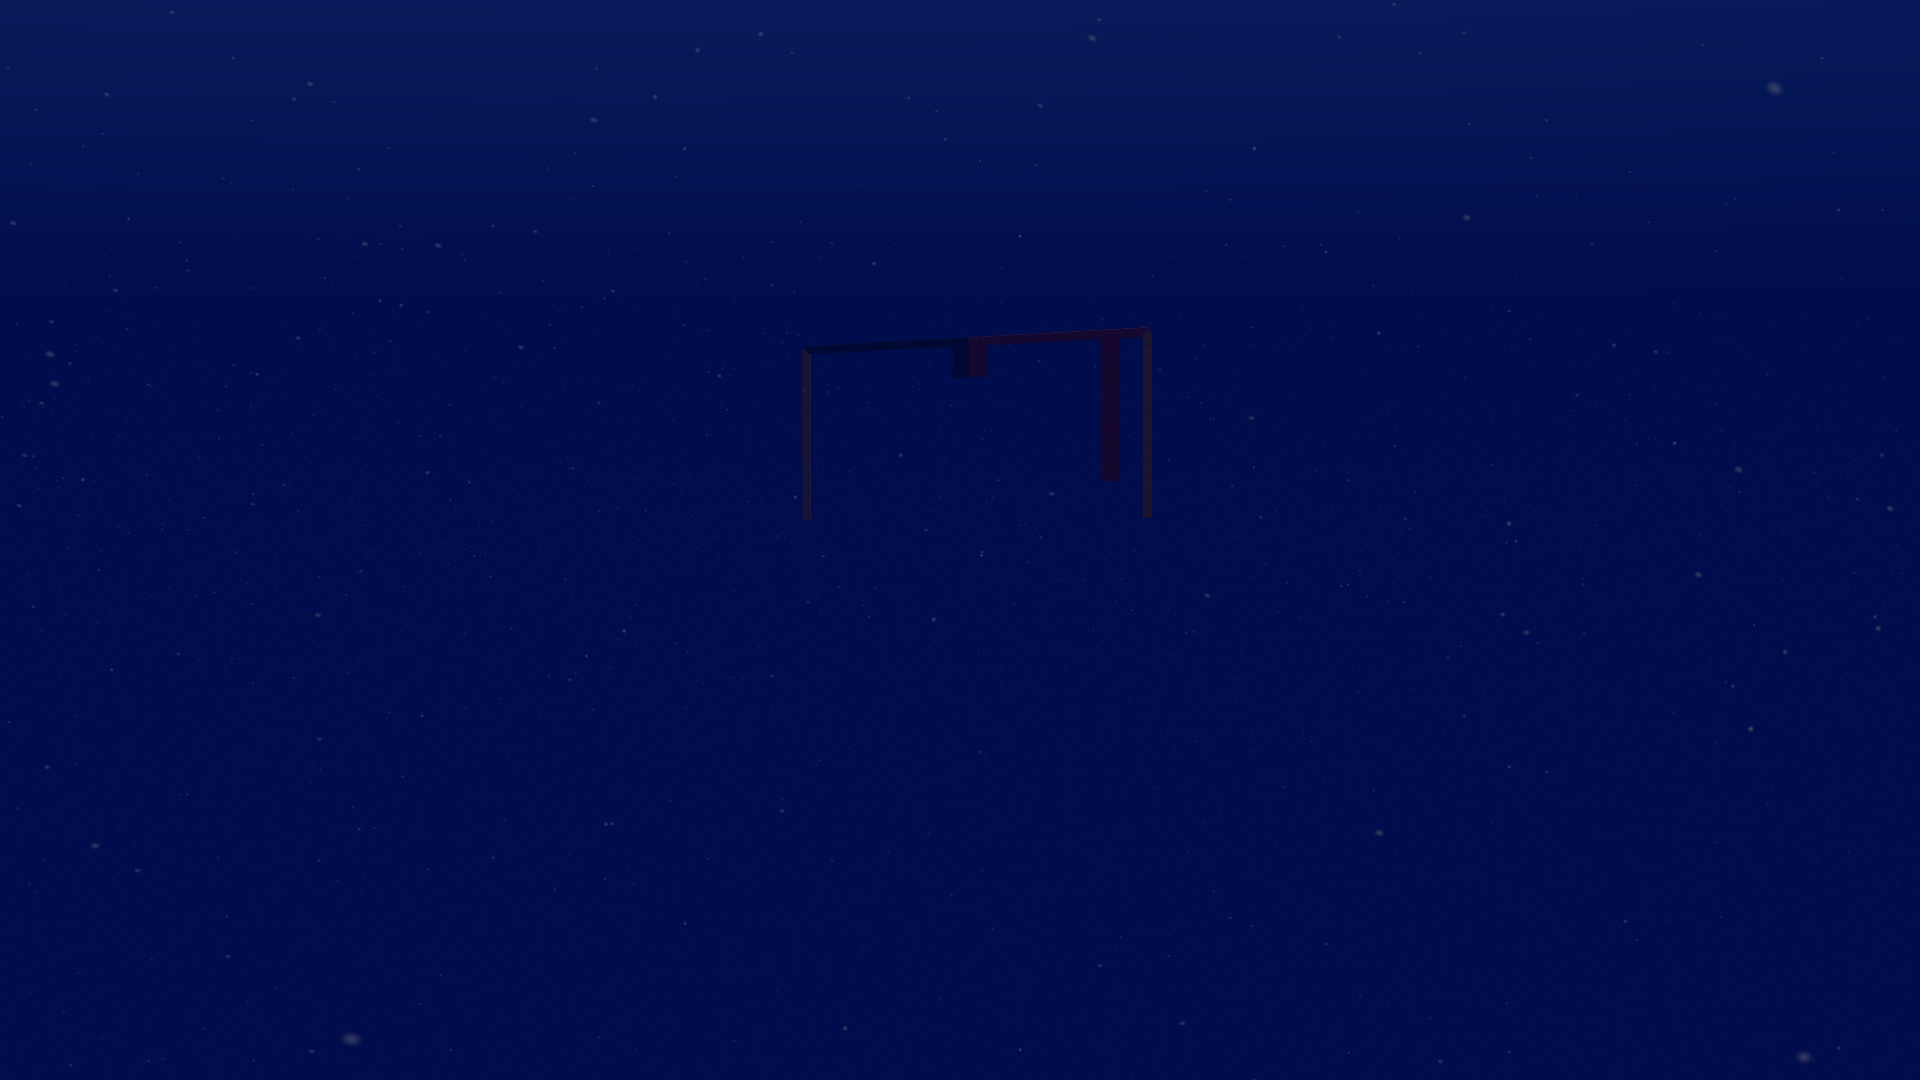Gate: (790, 319, 1162, 539)
